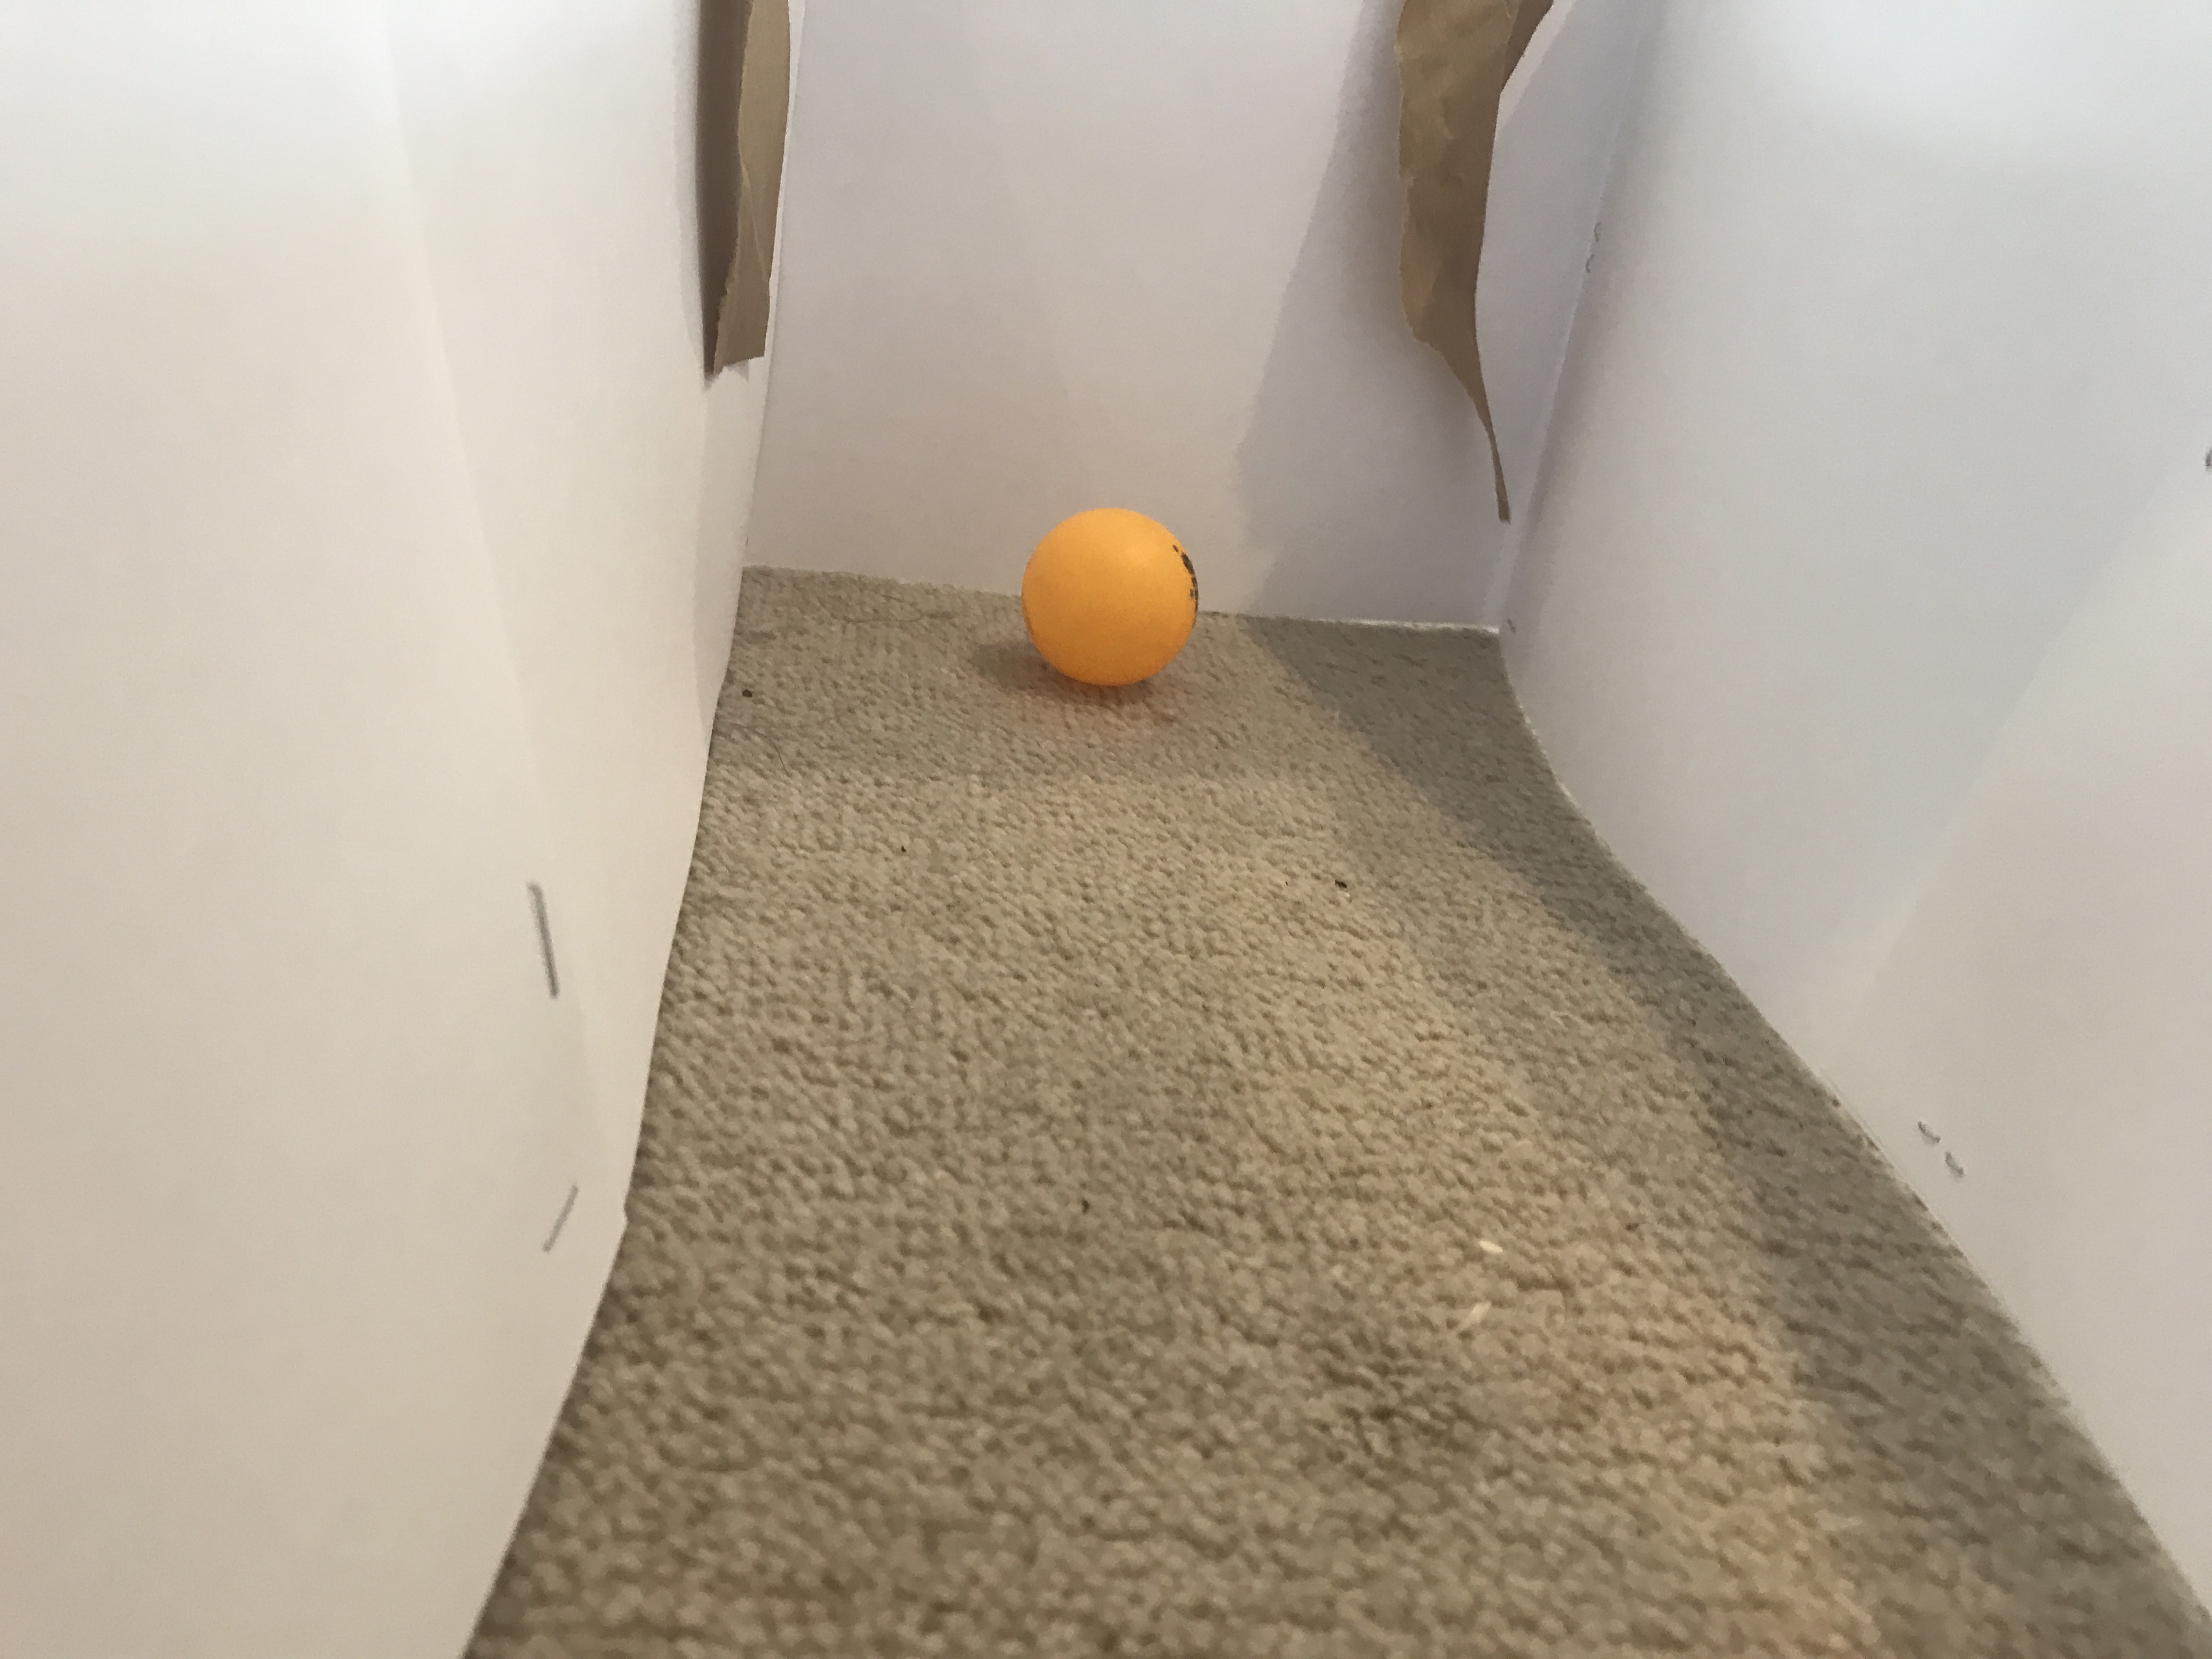pp: (1012, 498, 1219, 695)
